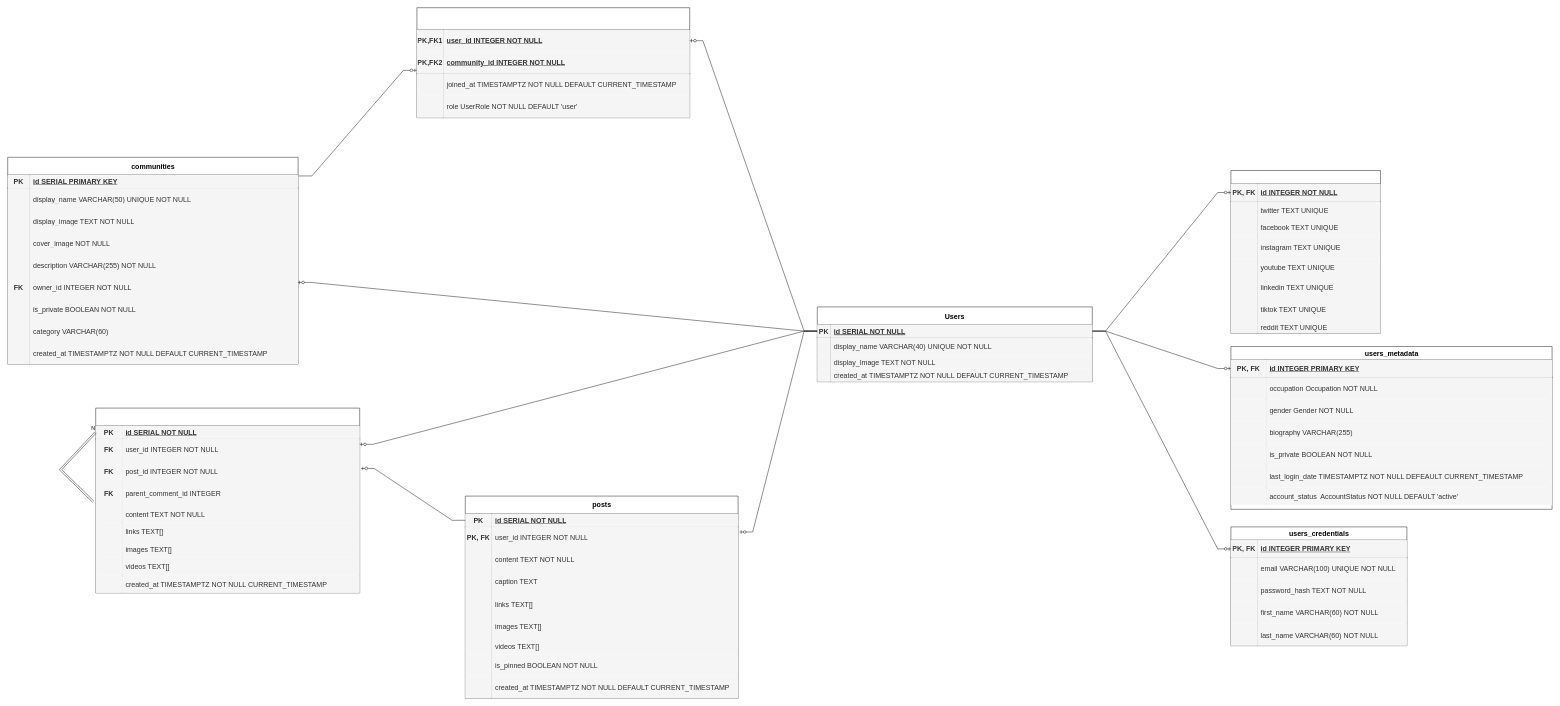
This 1560x706 diagram has some shape labels left out. Each missing label, with the box of its shape:
comments: (95, 408, 360, 593)
community_memberships: (416, 7, 690, 118)
users_socials: (1230, 170, 1380, 333)
